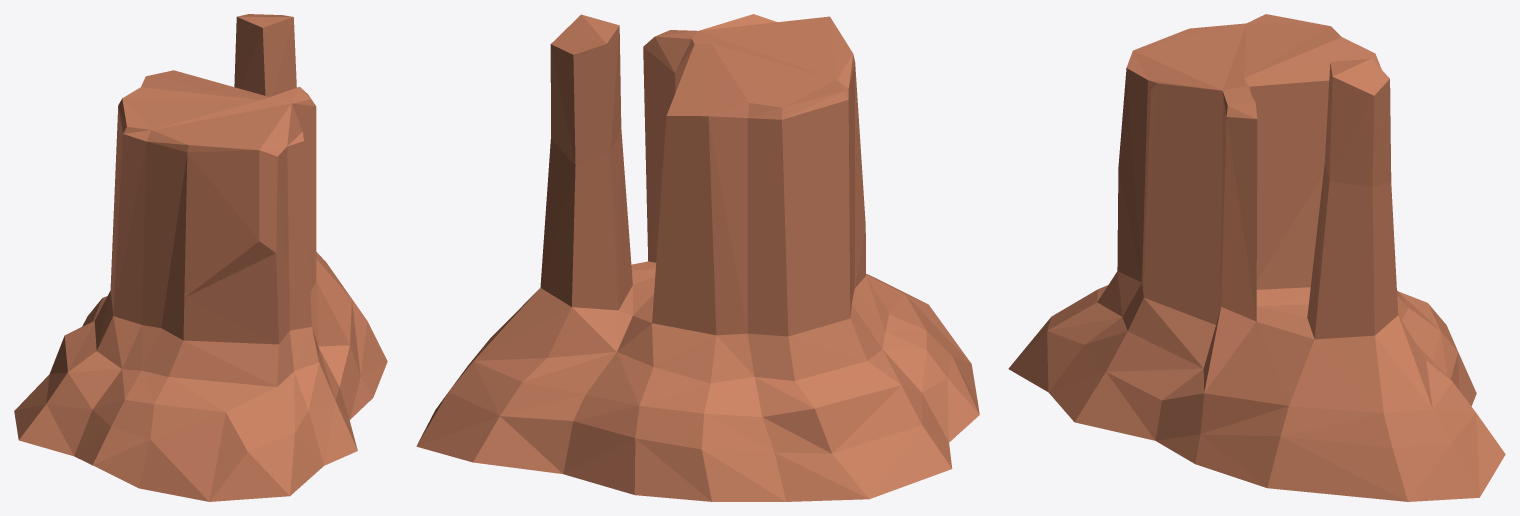
File: west_rock02.FBX
The picture shows the model from 3 angles, left to right: view 1: azimuth 30°, elevation 25°; view 2: azimuth 150°, elevation 25°; view 3: azimuth 270°, elevation 25°; orthographic projection. The views are drawn at different scales.
Parts seen in each view (by area): view 1: west_rock02; view 2: west_rock02; view 3: west_rock02.
Part boxes in pixels (bbox=[...]): west_rock02: bbox=[14, 14, 387, 501]; west_rock02: bbox=[416, 14, 979, 501]; west_rock02: bbox=[1008, 14, 1505, 501].
Size of the model in its own units: 10453 by 8832 by 10420.
